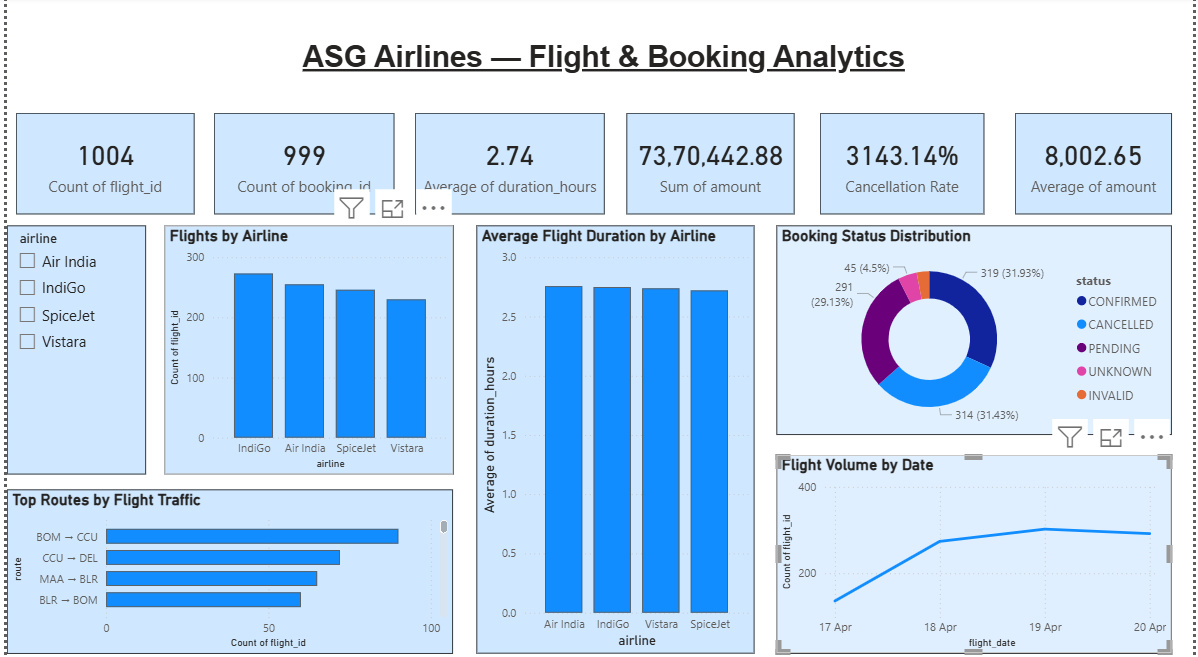

The dashboard page shown, as its layout file describes it:
{"tool":"powerbi","page":{"name":"Page 1","canvas":[1280,720],"ordinal":0},"visuals":[{"type":"card","fields":{"Values":["Avg(flights_clean.duration_hours)"]},"box":[440.5,126.7,204.7,109.2],"z":0},{"type":"card","title":"Flights by Airline","fields":{"Values":["CountNonNull(flights_clean.flight_id)"]},"box":[9.7,126.7,193,109.2],"z":1000},{"type":"card","fields":{"Values":["CountNonNull(bookings_clean.booking_id)"]},"box":[224.2,126.7,194.9,109.2],"z":2000},{"type":"card","fields":{"Values":["DimFlightID.Cancellation Rate"]},"box":[877.2,126.7,177.4,109.2],"z":3000},{"type":"card","fields":{"Values":["Sum(payments_clean.amount)"]},"box":[668.6,126.7,181.3,109.2],"z":4000},{"type":"card","fields":{"Values":["Avg(payments_clean.amount)"]},"box":[1087.7,126.7,169.6,109.2],"z":5000},{"type":"clusteredBarChart","title":"Top Routes by Flight Traffic","fields":{"Y":["CountNonNull(flights_clean.flight_id)"],"Category":["flights_clean.route"]},"box":[0,532.2,481.5,177.4],"z":6000},{"type":"clusteredColumnChart","title":"Flights by Airline","fields":{"Category":["flights_clean.airline"],"Y":["CountNonNull(flights_clean.flight_id)"]},"box":[169.6,247.6,311.9,269],"z":7000},{"type":"donutChart","title":"Booking Status Distribution","fields":{"Category":["bookings_clean.status"],"Y":["CountNonNull(bookings_clean.booking_id)"]},"box":[830.4,247.6,426.9,226.1],"z":8000},{"type":"clusteredColumnChart","title":"Average Flight Duration by Airline","fields":{"Category":["flights_clean.airline"],"Y":["Avg(flights_clean.duration_hours)"]},"box":[506.8,247.6,300.2,462],"z":9000},{"type":"lineChart","title":"Flight Volume by Date","fields":{"Y":["CountNonNull(flights_clean.flight_id)"],"Category":["flights_clean.flight_date"]},"box":[830.4,495.1,426.9,214.4],"z":10000},{"type":"slicer","fields":{"Values":["flights_clean.airline"]},"box":[0,247.6,150.1,269],"z":11000},{"type":"textbox","box":[9.7,42.9,1269,56.5],"z":12000}]}

Visuals, with their boxes in screenshot pixels (x1, y1, x2, y2), scaled from the page's 1280x720 canvas onto the 1198x657 screenshot:
card - Avg(flights_clean.duration_hours): (412, 116, 604, 215)
"Flights by Airline" card: (9, 116, 190, 215)
card - CountNonNull(bookings_clean.booking_id): (210, 116, 392, 215)
card - DimFlightID.Cancellation Rate: (821, 116, 987, 215)
card - Sum(payments_clean.amount): (626, 116, 795, 215)
card - Avg(payments_clean.amount): (1018, 116, 1177, 215)
"Top Routes by Flight Traffic" clusteredBarChart: (0, 486, 451, 648)
"Flights by Airline" clusteredColumnChart: (159, 226, 451, 471)
"Booking Status Distribution" donutChart: (777, 226, 1177, 432)
"Average Flight Duration by Airline" clusteredColumnChart: (474, 226, 755, 648)
"Flight Volume by Date" lineChart: (777, 452, 1177, 647)
slicer - flights_clean.airline: (0, 226, 140, 471)
textbox: (9, 39, 1197, 91)
